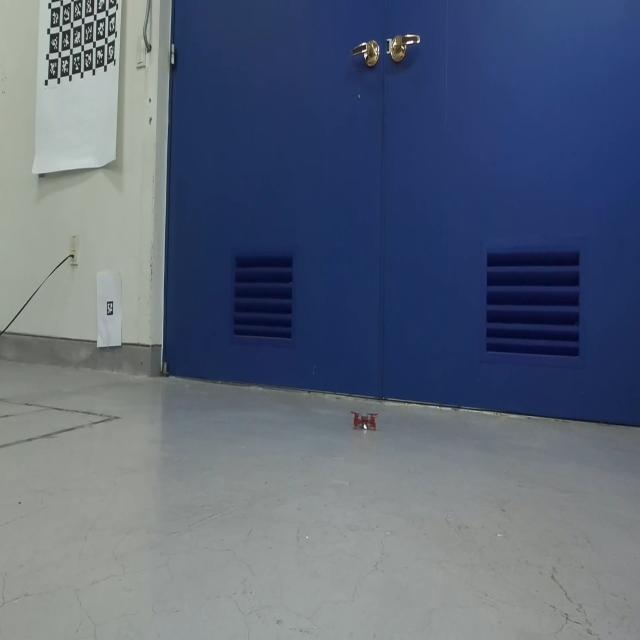crazyflie: (350, 405, 378, 436)
